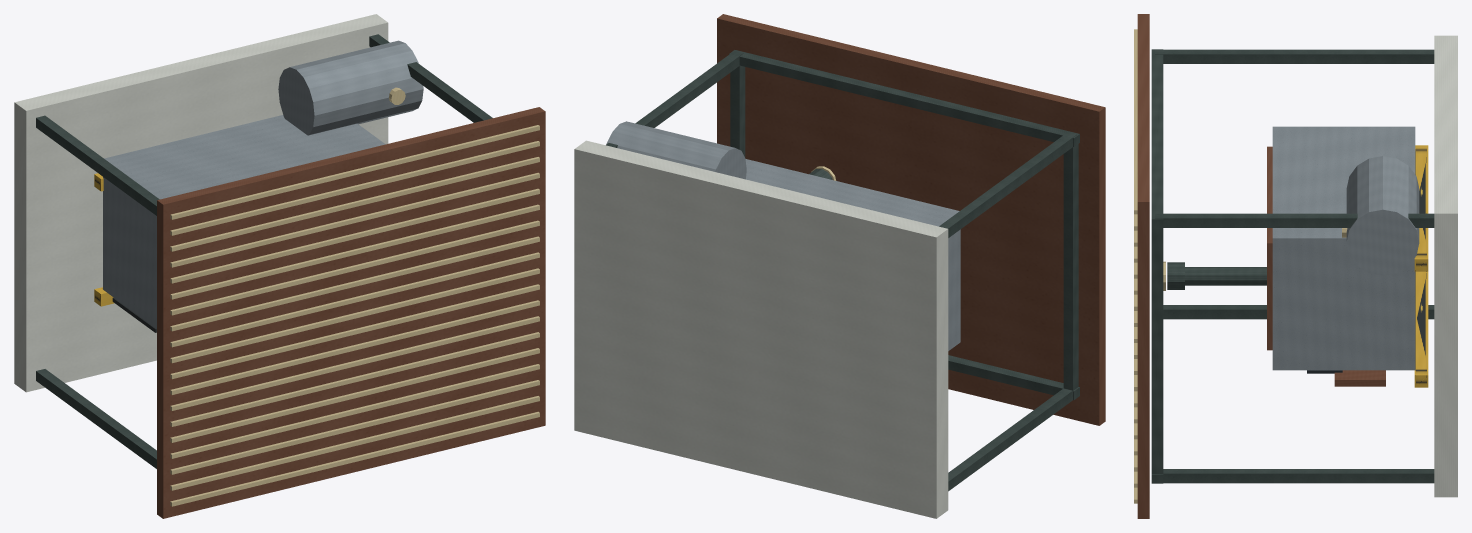
Rendered from PZ_RAD_04_Diesel_Generator_Shelter.glb.
3 renders of one model, left to right at view 1: azimuth 30°, elevation 25°; view 2: azimuth 150°, elevation 25°; view 3: azimuth 270°, elevation 25°, orthographic.
Visible parts, largest first — view 1: GEN_Shelter_Corrugated_Roof, GEN_Concrete_EquipmentPlinth, GEN_Shelter_RoofCorrugations, GEN_DieselGenerator_EngineEnclosure, GEN_FuelTank_EnclosedCylinder, GEN_SteelShelter_Four_Posts; view 2: GEN_Concrete_EquipmentPlinth, GEN_Shelter_Corrugated_Roof, GEN_SteelShelter_RoofFrame, GEN_SteelShelter_Four_Posts, GEN_DieselGenerator_EngineEnclosure, GEN_FuelTank_EnclosedCylinder; view 3: GEN_DieselGenerator_EngineEnclosure, GEN_SteelShelter_Four_Posts, GEN_Concrete_EquipmentPlinth, GEN_FuelTank_EnclosedCylinder, GEN_Shelter_Corrugated_Roof, GEN_SteelShelter_RoofFrame, GEN_DieselGenerator_AntiVibrationSkids, GEN_DieselGenerator_ExhaustStack, GEN_Shelter_RoofCorrugations, GEN_DieselGenerator_RoofAccessPanel, GEN_ControlPanel_Frame.
Boxes of the visible parts, x1,y1,x2,y2 form: GEN_Shelter_Corrugated_Roof: (157,107,545,518); GEN_Concrete_EquipmentPlinth: (14,14,388,392); GEN_Shelter_RoofCorrugations: (170,125,539,506); GEN_DieselGenerator_EngineEnclosure: (103,115,385,328); GEN_FuelTank_EnclosedCylinder: (278,40,423,135); GEN_SteelShelter_Four_Posts: (36,34,492,468); GEN_Concrete_EquipmentPlinth: (574,140,948,518); GEN_Shelter_Corrugated_Roof: (717,14,1105,425); GEN_SteelShelter_RoofFrame: (729,50,1079,399); GEN_SteelShelter_Four_Posts: (606,51,1076,491); GEN_DieselGenerator_EngineEnclosure: (745,159,960,350); GEN_FuelTank_EnclosedCylinder: (606,121,746,179); GEN_DieselGenerator_EngineEnclosure: (1272,126,1415,370); GEN_SteelShelter_Four_Posts: (1155,49,1434,483); GEN_Concrete_EquipmentPlinth: (1434,35,1457,497); GEN_FuelTank_EnclosedCylinder: (1346,156,1419,275); GEN_Shelter_Corrugated_Roof: (1137,14,1149,518); GEN_SteelShelter_RoofFrame: (1151,49,1163,483); GEN_DieselGenerator_AntiVibrationSkids: (1414,145,1428,387); GEN_DieselGenerator_ExhaustStack: (1167,262,1266,289); GEN_Shelter_RoofCorrugations: (1134,29,1137,503); GEN_DieselGenerator_RoofAccessPanel: (1267,146,1272,350); GEN_ControlPanel_Frame: (1334,370,1385,386).
Size of the model in its own units: 4.52 by 3.55 by 3.29.
Materials: 1 (1 with a texture image).
